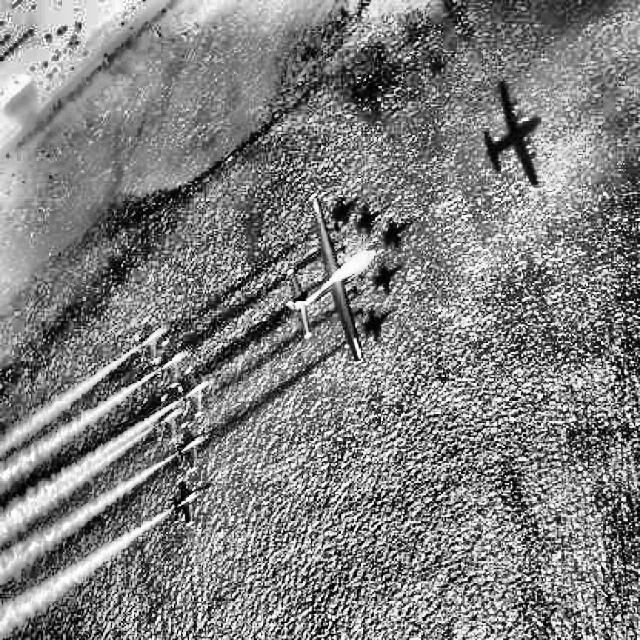C130: (286, 192, 376, 363)
F18: (174, 421, 217, 473), (170, 475, 212, 528), (178, 366, 220, 419), (155, 338, 197, 389), (153, 394, 193, 443), (136, 316, 176, 364)
